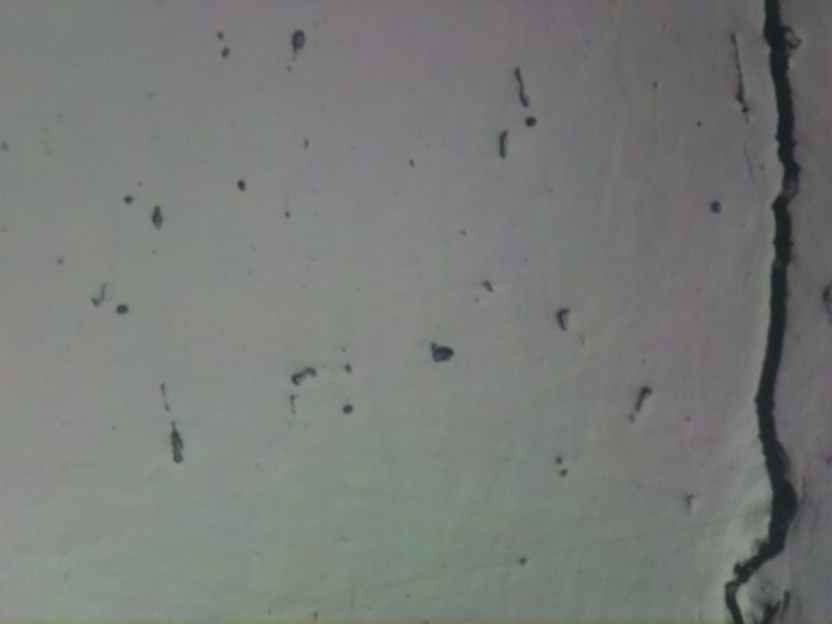crack: (725, 0, 798, 622)
